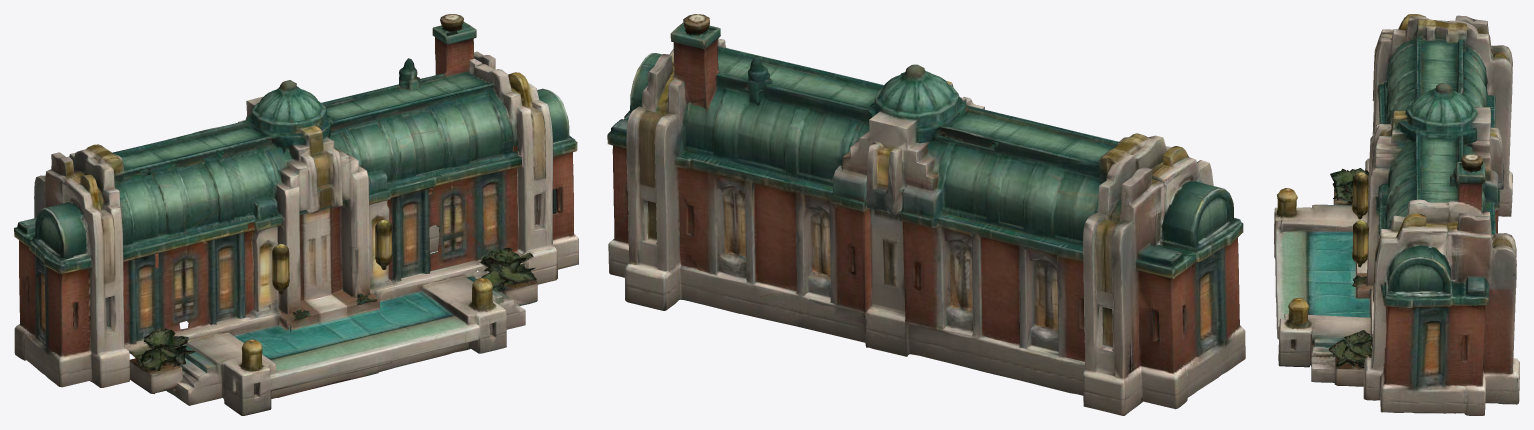
3 renders of one model, left to right at view 1: azimuth 30°, elevation 25°; view 2: azimuth 150°, elevation 25°; view 3: azimuth 270°, elevation 25°, orthographic. The views are drawn at different scales.
Parts seen in each view (by area): view 1: expansion__onsen_1__native_mobile; view 2: expansion__onsen_1__native_mobile; view 3: expansion__onsen_1__native_mobile.
Part boxes in pixels (x1,y1,x2,y2): expansion__onsen_1__native_mobile: (14,14,578,415); expansion__onsen_1__native_mobile: (607,14,1245,415); expansion__onsen_1__native_mobile: (1274,14,1519,415).
Bounding box in the file's own units: 1 × 0.4545 × 0.4307.
1 material, 1 textured.
